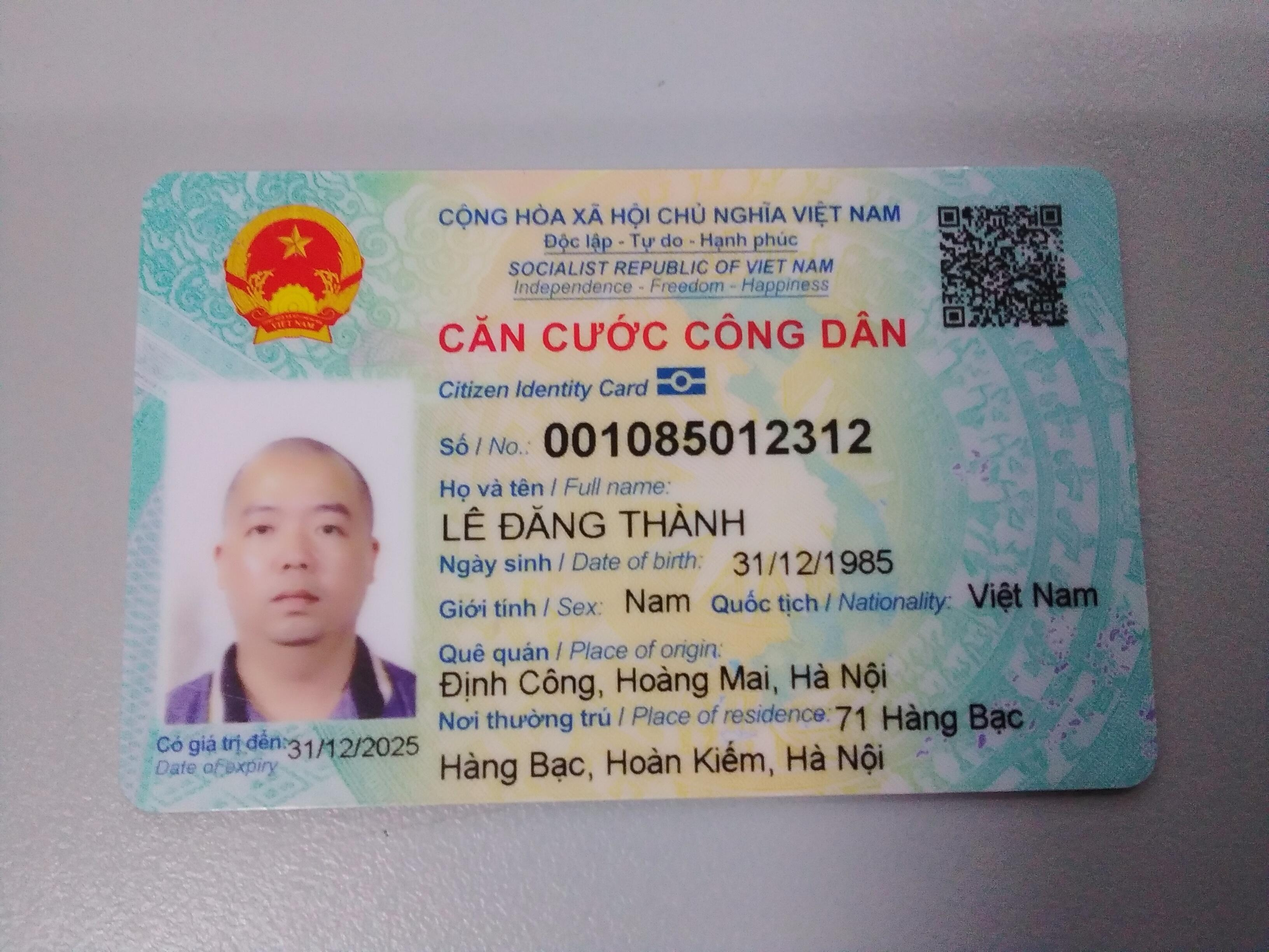ID: (535, 407, 898, 472)
birth: (721, 534, 912, 584)
name: (424, 500, 767, 550)
place: (426, 655, 917, 706)
residence: (431, 736, 895, 785), (833, 698, 1031, 745)
